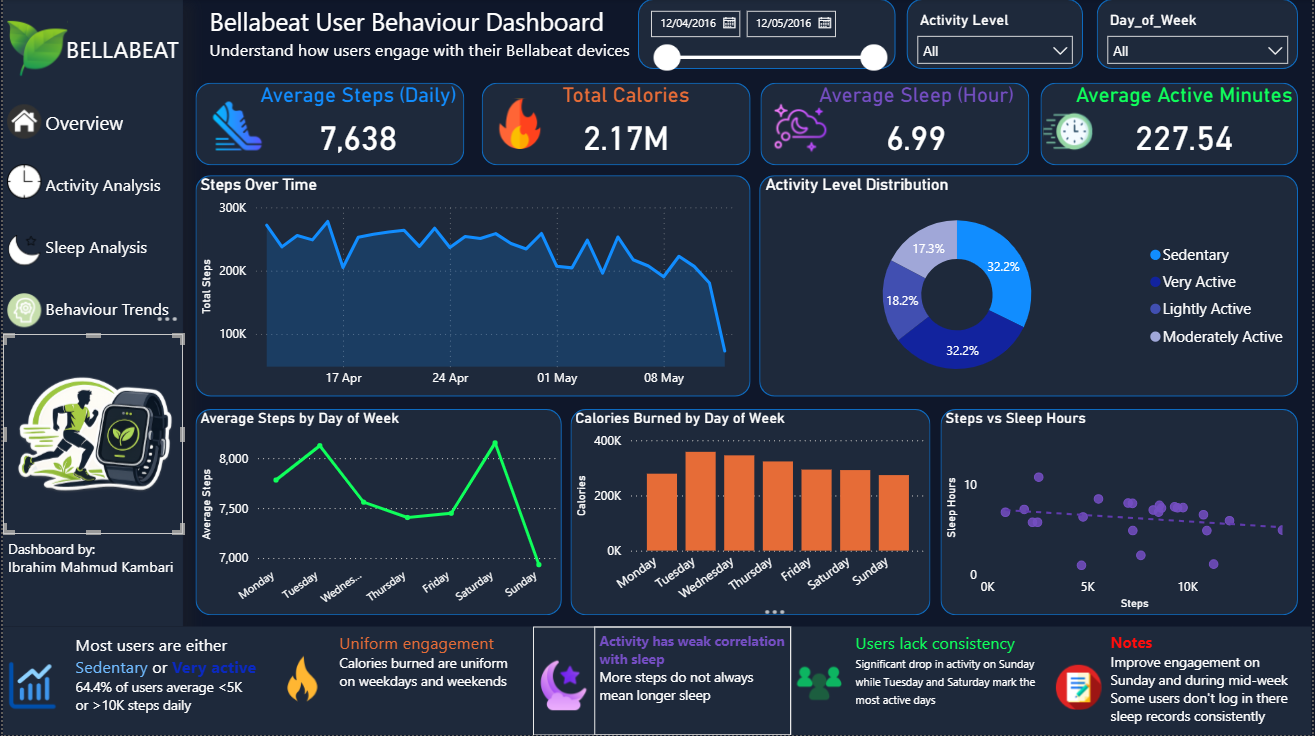

The page's visual inventory and layout, read from the dashboard file:
{"tool":"powerbi","page":{"name":"Overview","canvas":[1280,720],"ordinal":0},"visuals":[{"type":"shape","box":[188.3,172.4,542.9,216.4],"z":0},{"type":"textbox","box":[323.9,613.9,192,106.4],"z":0,"group":"g3"},{"type":"textbox","box":[578.4,613.9,192,106.4],"z":0,"group":"g5"},{"type":"textbox","box":[829.6,613.9,196.3,106.4],"z":0,"group":"g4"},{"type":"textbox","box":[1078.7,614,199.3,106.4],"z":0,"group":"g2"},{"type":"textbox","box":[66,615.1,192,105.2],"z":0,"group":"g1"},{"type":"shape","box":[739.8,172.4,527,216.4],"z":1000},{"type":"actionButton","box":[265.7,631.2,55,67.3],"z":1000,"group":"g3"},{"type":"actionButton","box":[518,638.5,59.9,66],"z":1000,"group":"g5"},{"type":"actionButton","box":[0,641.9,57.5,58.7],"z":1000,"group":"g1"},{"type":"actionButton","box":[770.4,642.2,56.3,61.1],"z":1000,"group":"g4"},{"type":"actionButton","box":[1025.7,643.4,52.6,59.9],"z":1000,"group":"g2"},{"type":"shape","box":[0,0.6,176.1,613.9],"z":2000},{"type":"shape","box":[0,613.9,1280.3,106.4],"z":3000},{"type":"shape","box":[917.1,401.1,349.7,201.8],"z":4000},{"type":"shape","box":[555.2,401.1,352.2,201.8],"z":5000},{"type":"shape","box":[188.3,401.1,358.3,201.8],"z":6000},{"type":"shape","box":[188.3,81.9,262.9,80.7],"z":7000},{"type":"shape","box":[1015,81.9,251.9,80.7],"z":8000},{"type":"shape","box":[741,81.9,262.9,80.7],"z":9000},{"type":"shape","box":[468.3,81.9,262.9,80.7],"z":10000},{"type":"shape","box":[621.2,0,251.9,68.5],"z":11000},{"type":"shape","box":[884.1,0,172.4,68.5],"z":12000},{"type":"shape","box":[1070,0,196.9,68.5],"z":13000},{"type":"card","title":"Average Steps (Daily)","fields":{"Values":["_Measures.Avg Steps"]},"box":[243.3,81.9,207.9,80.7],"z":14000},{"type":"card","title":"Total Calories","fields":{"Values":["_Measures.Total Calories"]},"box":[487.9,81.9,243.3,80.7],"z":15000},{"type":"card","title":"Average Sleep (Hour)","fields":{"Values":["_Measures.Avg Sleep Hours"]},"box":[782.6,81.9,221.3,80],"z":16000},{"type":"card","title":"Average Active Minutes","fields":{"Values":["_Measures.Avg Active Minutes"]},"box":[1044.3,81.9,222.6,80],"z":17000},{"type":"stackedAreaChart","title":"Steps Over Time","fields":{"Category":["Date_Table.Date.Variation.Date Hierarchy.Year"],"Y":["_Measures.Total Steps"]},"box":[188.3,172.4,542.9,216.4],"z":18000},{"type":"donutChart","title":"Activity Level Distribution","fields":{"Category":["Daily_activity.Activity_Level"],"Y":["CountNonNull(Daily_activity.Customer_ID)"]},"box":[741,172.4,525.8,216.4],"z":19000},{"type":"columnChart","title":"Calories Burned by Day of Week","fields":{"Y":["_Measures.Total Calories"],"Category":["Date_Table.Day of Week"]},"box":[555.2,401.1,352.2,201.8],"z":20000},{"type":"lineChart","title":"Average Steps by Day of Week","fields":{"Y":["_Measures.Avg Steps"],"Category":["Date_Table.Day of Week"]},"box":[188.3,401.1,358.3,201.8],"z":21000},{"type":"scatterChart","title":"Steps vs Sleep Hours","fields":{"Category":["Users_Table.Customer_ID"],"X":["Avg(Daily_activity.Total_Steps)"],"Y":["_Measures.Avg Sleep Hours"]},"box":[917.1,401.1,349.7,201.8],"z":22000},{"type":"slicer","fields":{"Values":["Daily_activity.Activity_Level"]},"box":[884.1,7.3,172.4,59.9],"z":23000},{"type":"slicer","fields":{"Values":["Date_Table.Day_of_Week"]},"box":[1070,7.3,196.9,59.9],"z":24000},{"type":"slicer","fields":{"Values":["Date_Table.Date"]},"box":[621.2,1.2,251.9,71],"z":25000},{"type":"actionButton","box":[198.1,92.9,69.7,62.4],"z":26000},{"type":"actionButton","box":[476.9,89.3,57.5,66],"z":27000},{"type":"actionButton","box":[1013.7,96.6,56.3,66],"z":28000},{"type":"actionButton","box":[747.2,92.9,70.9,66],"z":29000},{"type":"actionButton","box":[0,14.7,176.1,67.3],"z":30000},{"type":"actionButton","box":[198.1,1.2,412.1,37.9],"z":31000},{"type":"actionButton","box":[198.1,28.1,432.9,42.8],"z":32000},{"type":"group","id":"g1","title":"Insight 1","box":[0,615.1,258,105.2],"z":33000},{"type":"group","id":"g2","title":"Insight 2","box":[1025.7,614,252.3,106.4],"z":34000},{"type":"group","id":"g3","title":"Insight 3","box":[265.7,613.9,250.2,106.4],"z":35000},{"type":"group","id":"g4","title":"Insight 4","box":[770.4,613.9,255.6,106.4],"z":36000},{"type":"group","id":"g5","title":"Insight 5","box":[518,613.9,252.4,106.4],"z":37000},{"type":"pageNavigator","box":[41.6,89.3,134.5,245.8],"z":37001},{"type":"actionButton","box":[0,96.6,41.6,46.5],"z":37002},{"type":"actionButton","box":[0,155.3,41.6,46.5],"z":37003},{"type":"actionButton","box":[0,222.6,41.6,46.5],"z":37004},{"type":"actionButton","box":[0,281.3,41.6,46.5],"z":37005},{"type":"actionButton","box":[0,327.7,176.1,195.7],"z":37006},{"type":"textbox","box":[0,523.4,176.1,91.7],"z":37007}]}

Visuals, with their boxes in screenshot pixels (x1, y1, x2, y2), scaled from the page's 1280x720 canvas onto the 1315x736 screenshot:
shape: l=193, t=176, r=751, b=397
textbox: l=333, t=628, r=530, b=735
textbox: l=594, t=628, r=791, b=735
textbox: l=852, t=628, r=1054, b=735
textbox: l=1108, t=628, r=1313, b=735
textbox: l=68, t=629, r=265, b=735
shape: l=760, t=176, r=1301, b=397
actionButton: l=273, t=645, r=329, b=714
actionButton: l=532, t=653, r=594, b=720
actionButton: l=0, t=656, r=59, b=716
actionButton: l=791, t=656, r=849, b=719
actionButton: l=1054, t=658, r=1108, b=719
shape: l=0, t=1, r=181, b=628
shape: l=0, t=628, r=1314, b=735
shape: l=942, t=410, r=1301, b=616
shape: l=570, t=410, r=932, b=616
shape: l=193, t=410, r=562, b=616
shape: l=193, t=84, r=464, b=166
shape: l=1043, t=84, r=1302, b=166
shape: l=761, t=84, r=1031, b=166
shape: l=481, t=84, r=751, b=166
shape: l=638, t=0, r=897, b=70
shape: l=908, t=0, r=1085, b=70
shape: l=1099, t=0, r=1302, b=70
"Average Steps (Daily)" card: l=250, t=84, r=464, b=166
"Total Calories" card: l=501, t=84, r=751, b=166
"Average Sleep (Hour)" card: l=804, t=84, r=1031, b=165
"Average Active Minutes" card: l=1073, t=84, r=1302, b=165
"Steps Over Time" stackedAreaChart: l=193, t=176, r=751, b=397
"Activity Level Distribution" donutChart: l=761, t=176, r=1301, b=397
"Calories Burned by Day of Week" columnChart: l=570, t=410, r=932, b=616
"Average Steps by Day of Week" lineChart: l=193, t=410, r=562, b=616
"Steps vs Sleep Hours" scatterChart: l=942, t=410, r=1301, b=616
slicer - Daily_activity.Activity_Level: l=908, t=7, r=1085, b=69
slicer - Date_Table.Day_of_Week: l=1099, t=7, r=1302, b=69
slicer - Date_Table.Date: l=638, t=1, r=897, b=74
actionButton: l=204, t=95, r=275, b=159
actionButton: l=490, t=91, r=549, b=159
actionButton: l=1041, t=99, r=1099, b=166
actionButton: l=768, t=95, r=840, b=162
actionButton: l=0, t=15, r=181, b=84
actionButton: l=204, t=1, r=627, b=40
actionButton: l=204, t=29, r=648, b=72
"Insight 1" group: l=0, t=629, r=265, b=735
"Insight 2" group: l=1054, t=628, r=1313, b=735
"Insight 3" group: l=273, t=628, r=530, b=735
"Insight 4" group: l=791, t=628, r=1054, b=735
"Insight 5" group: l=532, t=628, r=791, b=735
pageNavigator: l=43, t=91, r=181, b=343
actionButton: l=0, t=99, r=43, b=146
actionButton: l=0, t=159, r=43, b=206
actionButton: l=0, t=228, r=43, b=275
actionButton: l=0, t=288, r=43, b=335
actionButton: l=0, t=335, r=181, b=535
textbox: l=0, t=535, r=181, b=629
